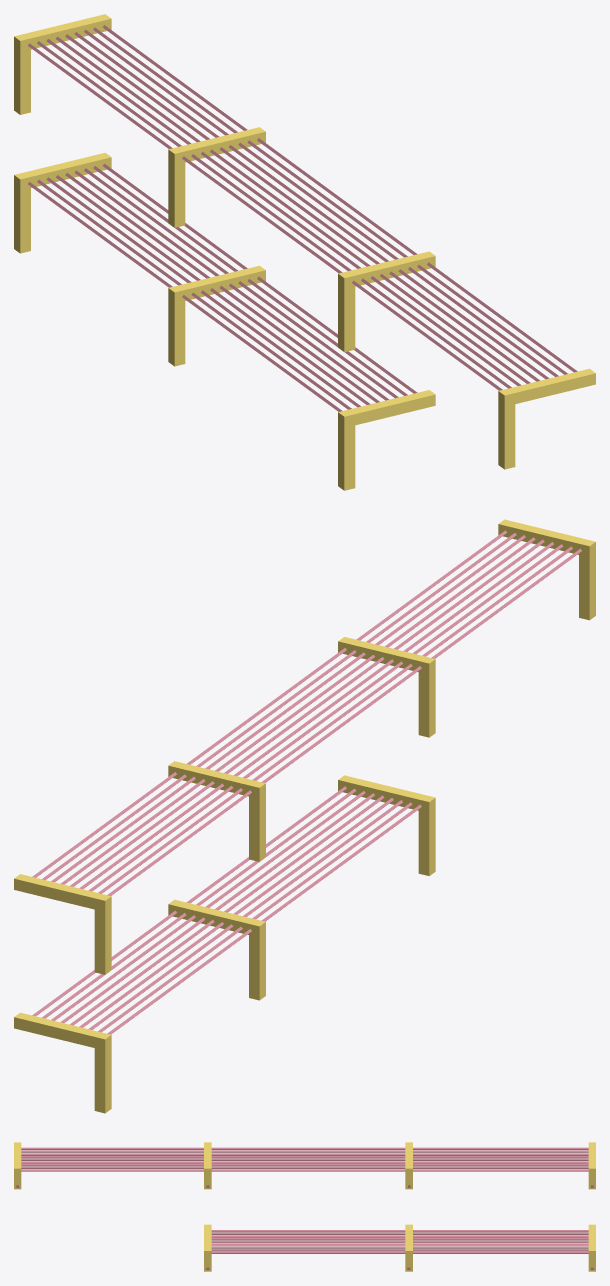
Rendered from Laundry_shelves.fbx.
The picture shows the model from 3 angles, top to bottom: view 1: azimuth 30°, elevation 25°; view 2: azimuth 150°, elevation 25°; view 3: azimuth 270°, elevation 25°; orthographic projection. The views are drawn at different scales.
Parts seen in each view (by area): view 1: Laundry_shelves; view 2: Laundry_shelves; view 3: Laundry_shelves.
Part boxes in pixels (x1,y1,x2,y2): Laundry_shelves: (14, 14, 595, 490); Laundry_shelves: (14, 519, 595, 1113); Laundry_shelves: (14, 1142, 595, 1271).
Size of the model in its own units: 48.17 by 107 by 448.
